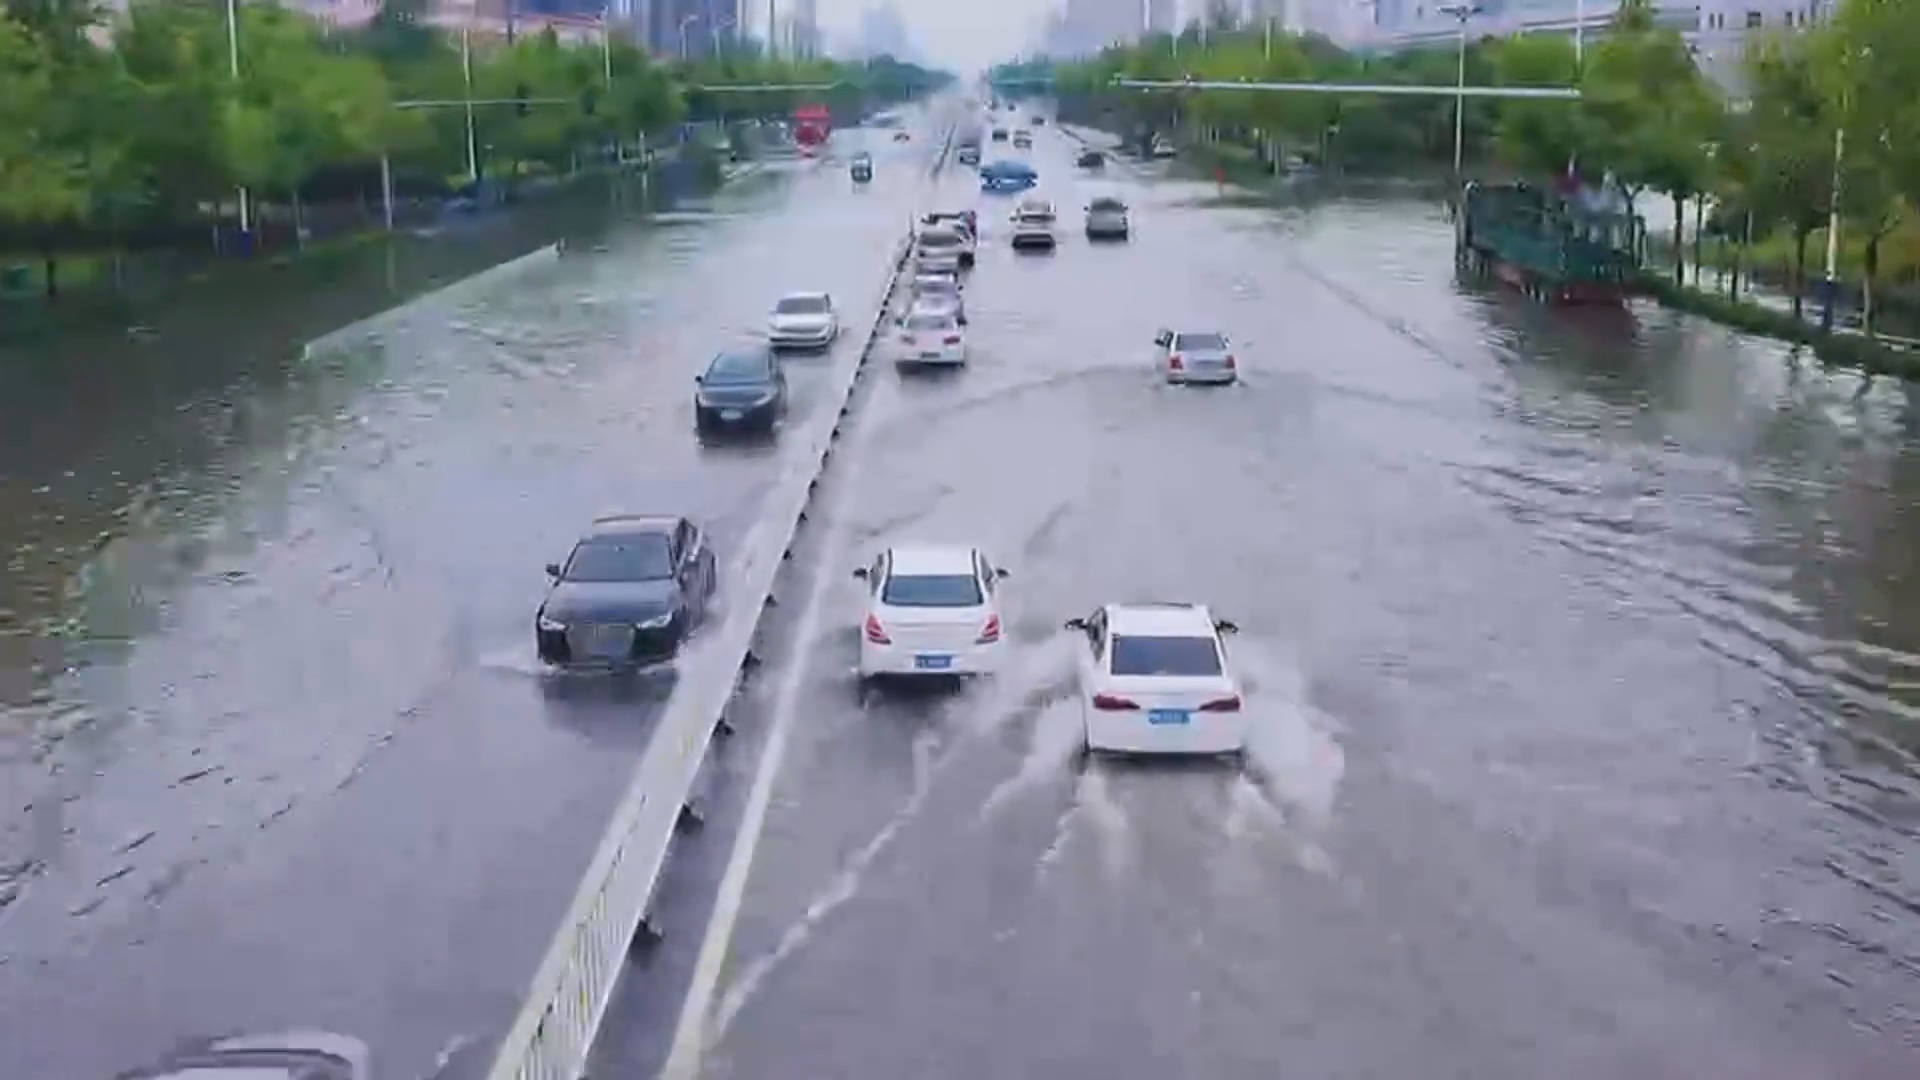puddle: (1, 262, 1920, 1080)
